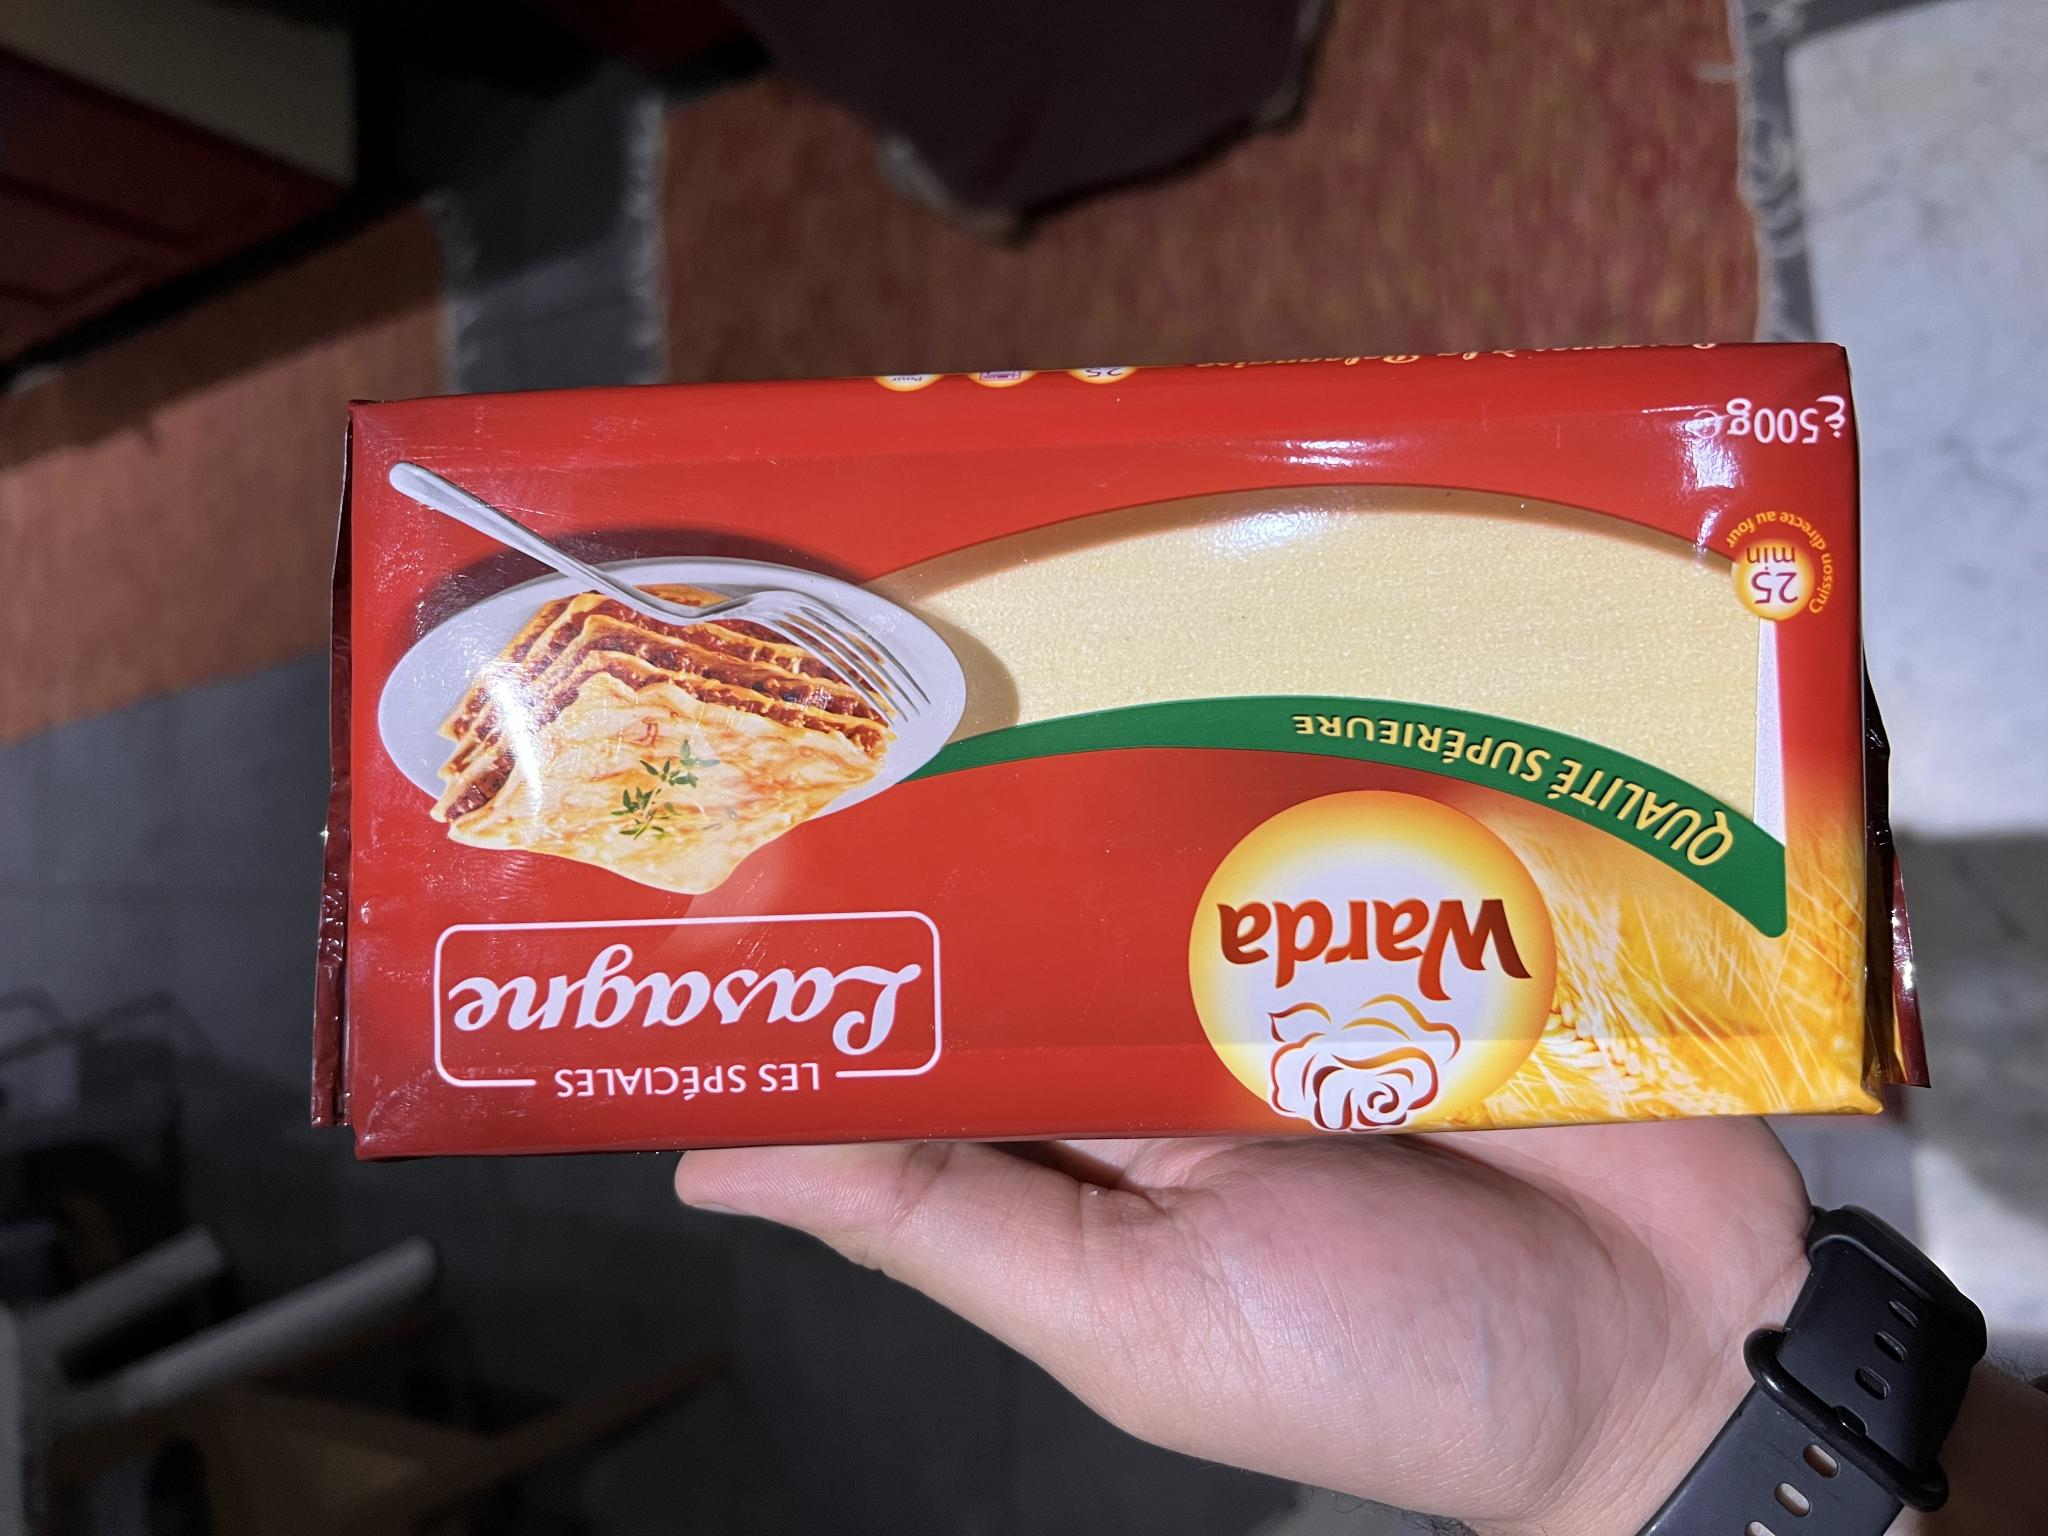lasagne: (347, 347, 1909, 1162)
